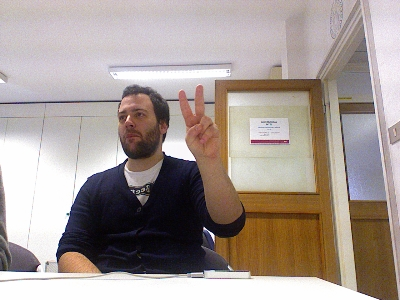剪刀: (177, 83, 222, 162)
